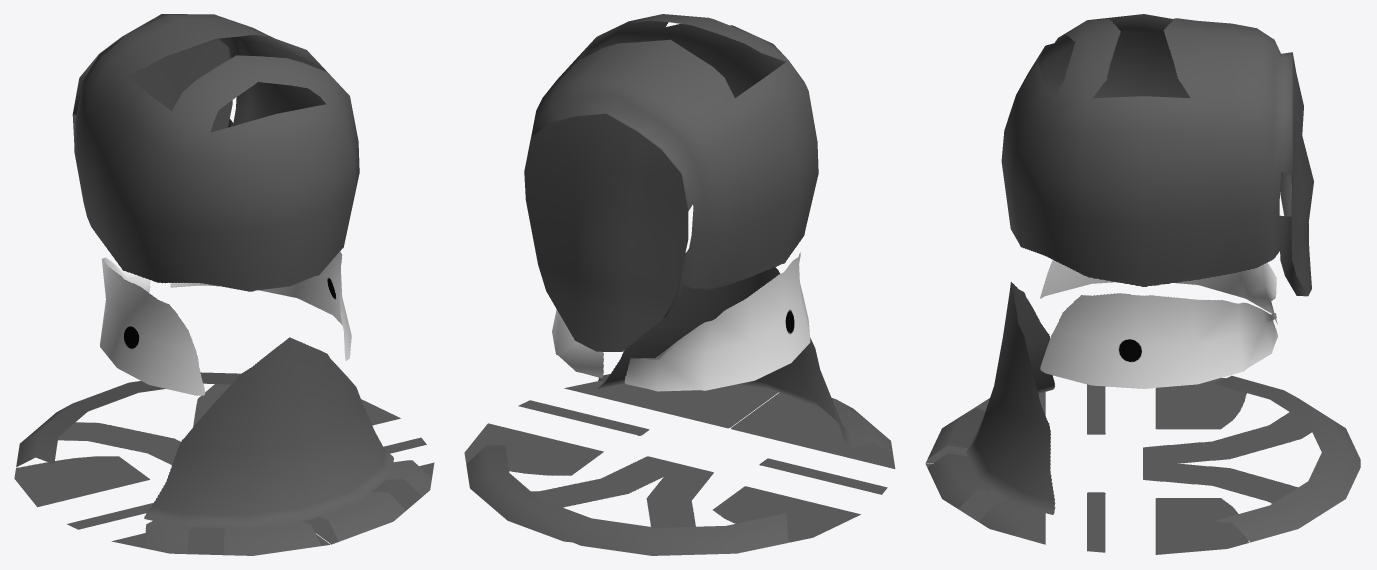
File: mask_ghost.fbx
3 views of the same model, side by side, from view 1: azimuth 30°, elevation 25°; view 2: azimuth 150°, elevation 25°; view 3: azimuth 270°, elevation 25° (orthographic). The views are drawn at different scales.
Parts seen in each view (by area): view 1: Sphere; view 2: Sphere; view 3: Sphere.
Part boxes in pixels (left/top/right/bottom): Sphere: left=14, top=14, right=434, bottom=555; Sphere: left=464, top=14, right=895, bottom=555; Sphere: left=925, top=14, right=1360, bottom=554.
Size of the model in its own units: 3.47 by 3.81 by 3.47.
